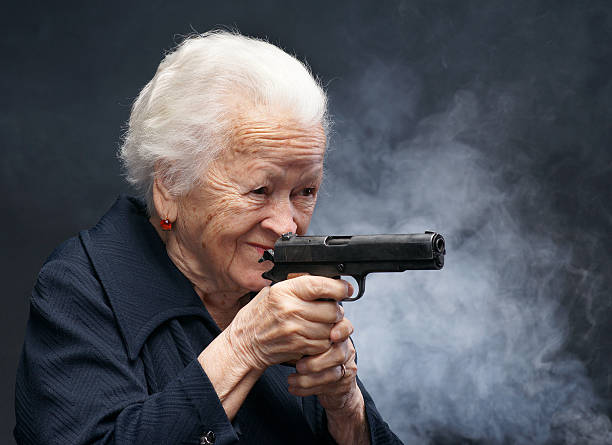gun: (255, 231, 447, 301)
